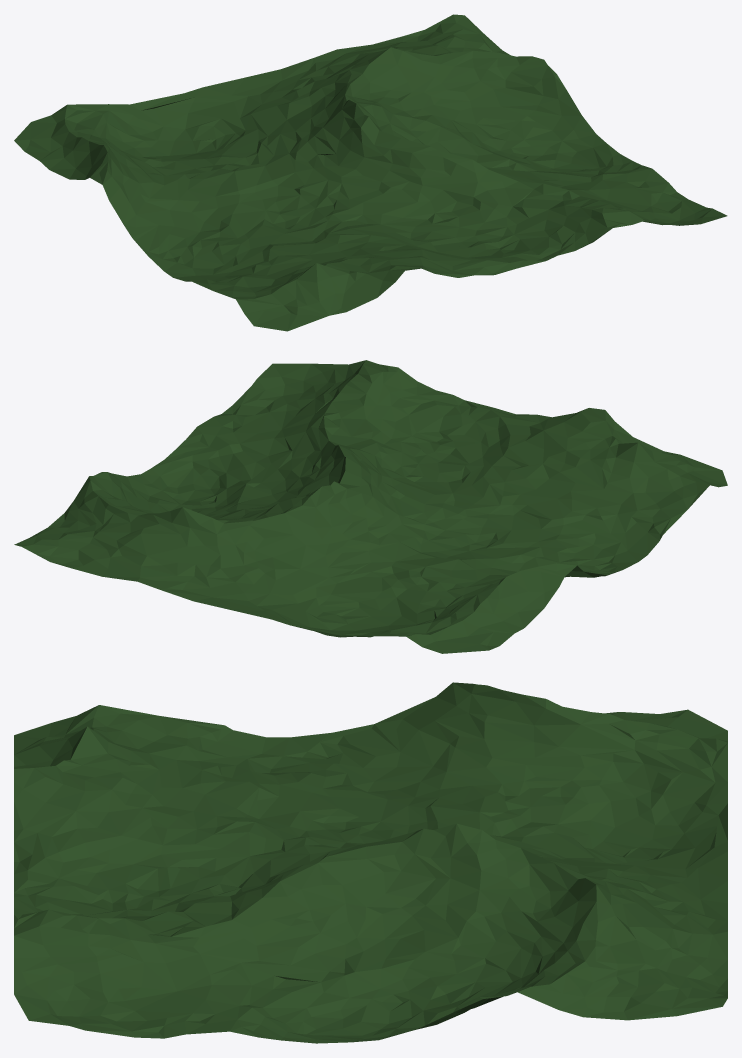
The model's file is SM_landscape_30.fbx.
The picture shows the model from 3 angles, top to bottom: view 1: azimuth 30°, elevation 25°; view 2: azimuth 150°, elevation 25°; view 3: azimuth 270°, elevation 25°; orthographic projection. The views are drawn at different scales.
Visible parts, largest first — view 1: landscape_30; view 2: landscape_30; view 3: landscape_30.
Boxes of the visible parts, bbox=[...] form: landscape_30: bbox=[14, 14, 727, 331]; landscape_30: bbox=[14, 360, 727, 653]; landscape_30: bbox=[14, 682, 727, 1043].
Bounding box in the file's own units: 2224 × 331 × 2224.
